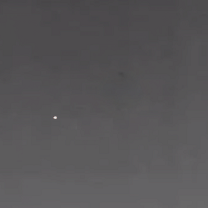Target: (51, 116, 58, 120)
